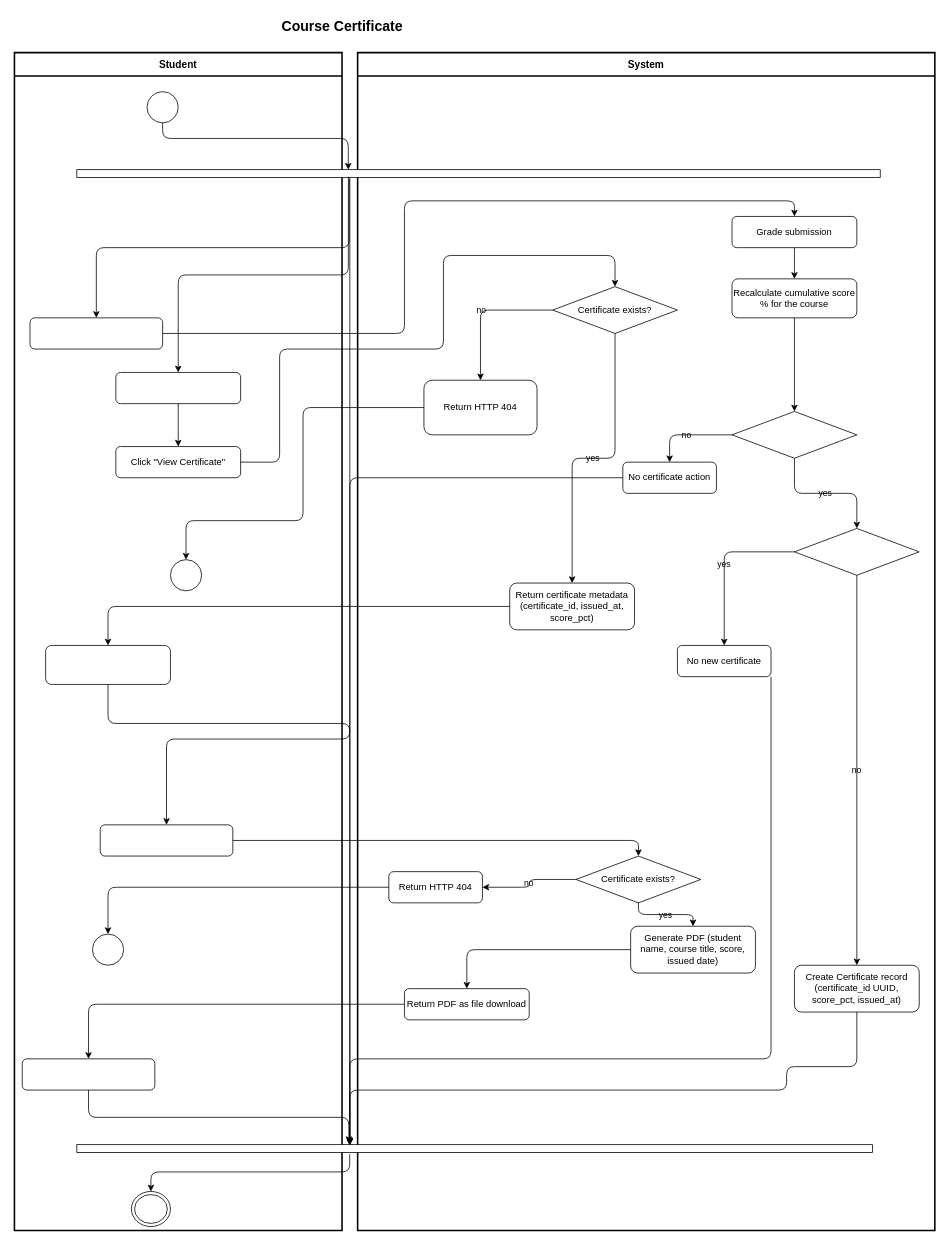
The diagram is 948 pixels wide and 1244 high, and some of its shapes have lost their labels. Here are the shapes that lost their labels. From the top down, the box of each, then its label:
(29, 317, 163, 349): Submit a challenge answer
(115, 372, 241, 404): Navigate to course detail page
(731, 411, 857, 458): score_pct >= threshold?
(794, 528, 919, 575): Certificate already exists?
(45, 645, 170, 684): See certificate details on course page
(99, 824, 233, 856): Click "Download Certificate"
(21, 1058, 155, 1090): Download and save PDF certificate
